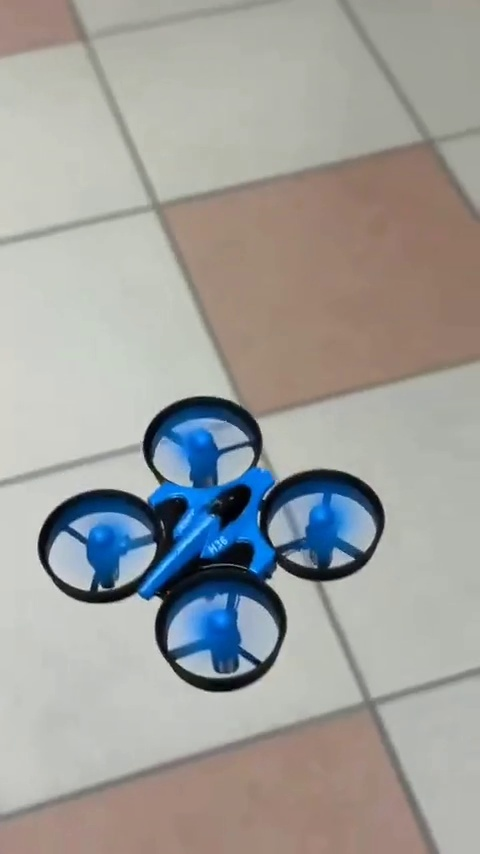drone: (44, 399, 391, 697)
